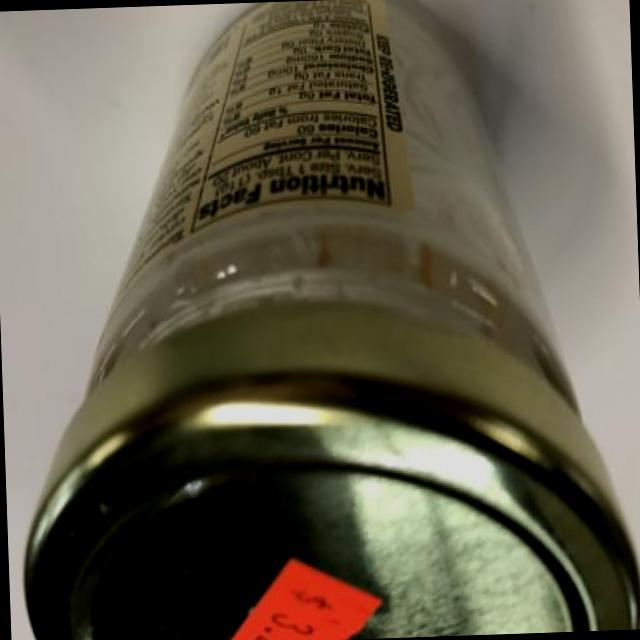chai_thuy_tinh: (86, 0, 579, 413)
nhom: (22, 303, 640, 640)
